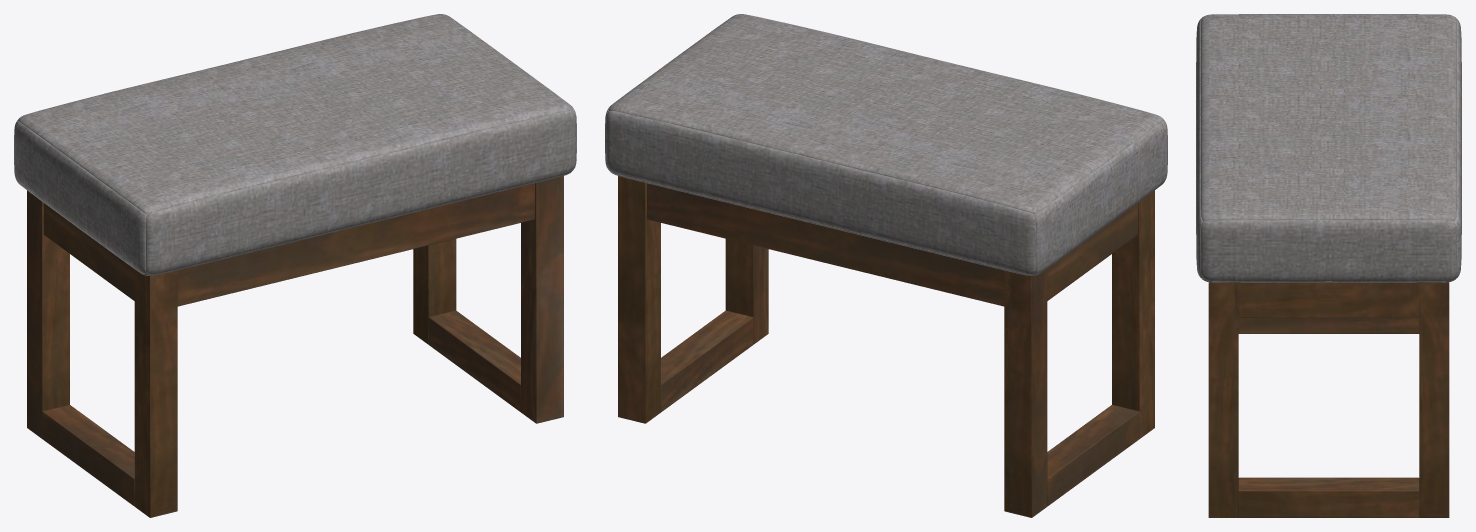
3 views of the same model, side by side, from view 1: azimuth 30°, elevation 25°; view 2: azimuth 150°, elevation 25°; view 3: azimuth 270°, elevation 25° (orthographic). The views are drawn at different scales.
Visible parts, largest first — view 1: B07D4FS7GY; view 2: B07D4FS7GY; view 3: B07D4FS7GY.
Part boxes in pixels (x1=…): B07D4FS7GY: x1=14, y1=14, x2=576, y2=517; B07D4FS7GY: x1=605, y1=14, x2=1167, y2=517; B07D4FS7GY: x1=1196, y1=14, x2=1461, y2=517.
Bounding box in the file's own units: 0.6807 × 0.4674 × 0.3658.
1 material, 1 textured.
